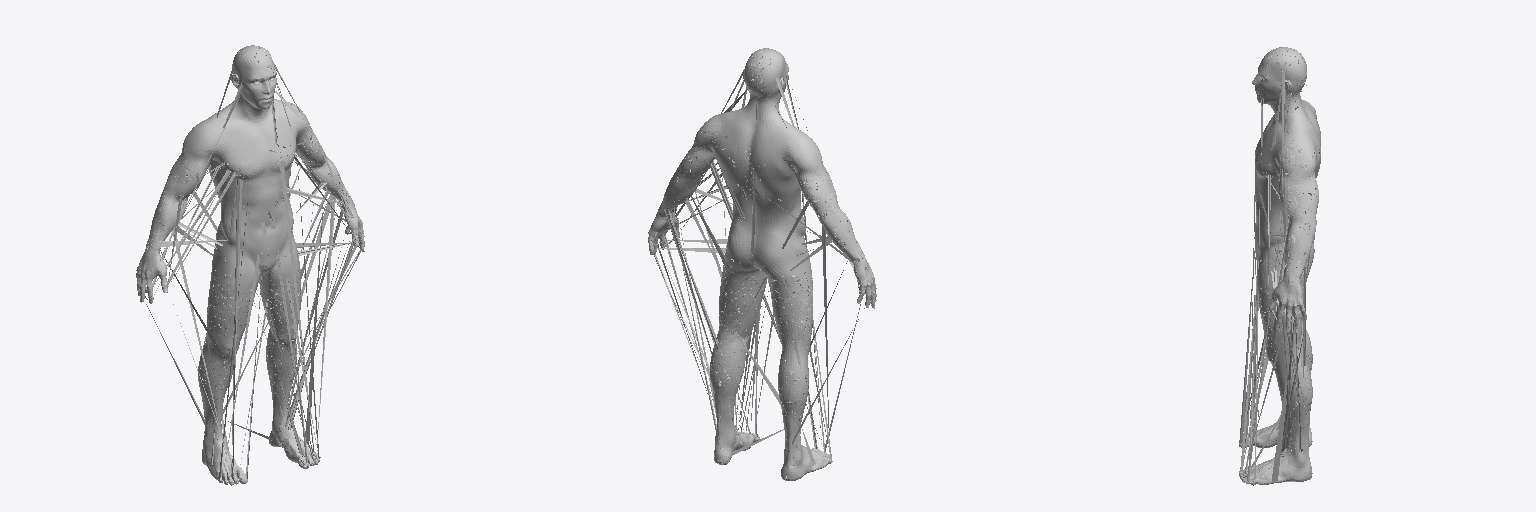
File: man.obj
3 views of the same model, side by side, from view 1: azimuth 30°, elevation 25°; view 2: azimuth 150°, elevation 25°; view 3: azimuth 270°, elevation 25° (orthographic).
Parts seen in each view (by area): view 1: Group1; view 2: Group1; view 3: Group1.
Part boxes in pixels (x1,y1,x2,y2): Group1: (136,45,364,485); Group1: (648,48,876,480); Group1: (1239,47,1320,485).
Bounding box in the file's own units: 11.69 × 20.74 × 3.77.